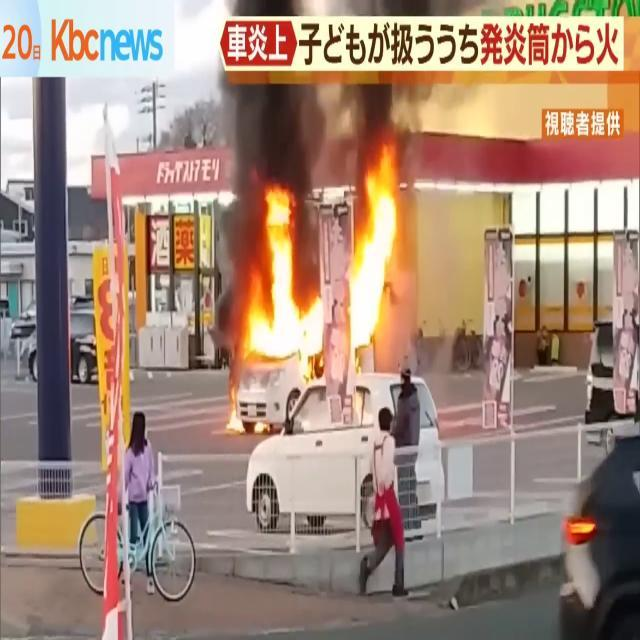Fire: (234, 182, 326, 380), (344, 143, 406, 362), (225, 372, 245, 434)
Smoke: (215, 73, 326, 186), (330, 81, 428, 176)
